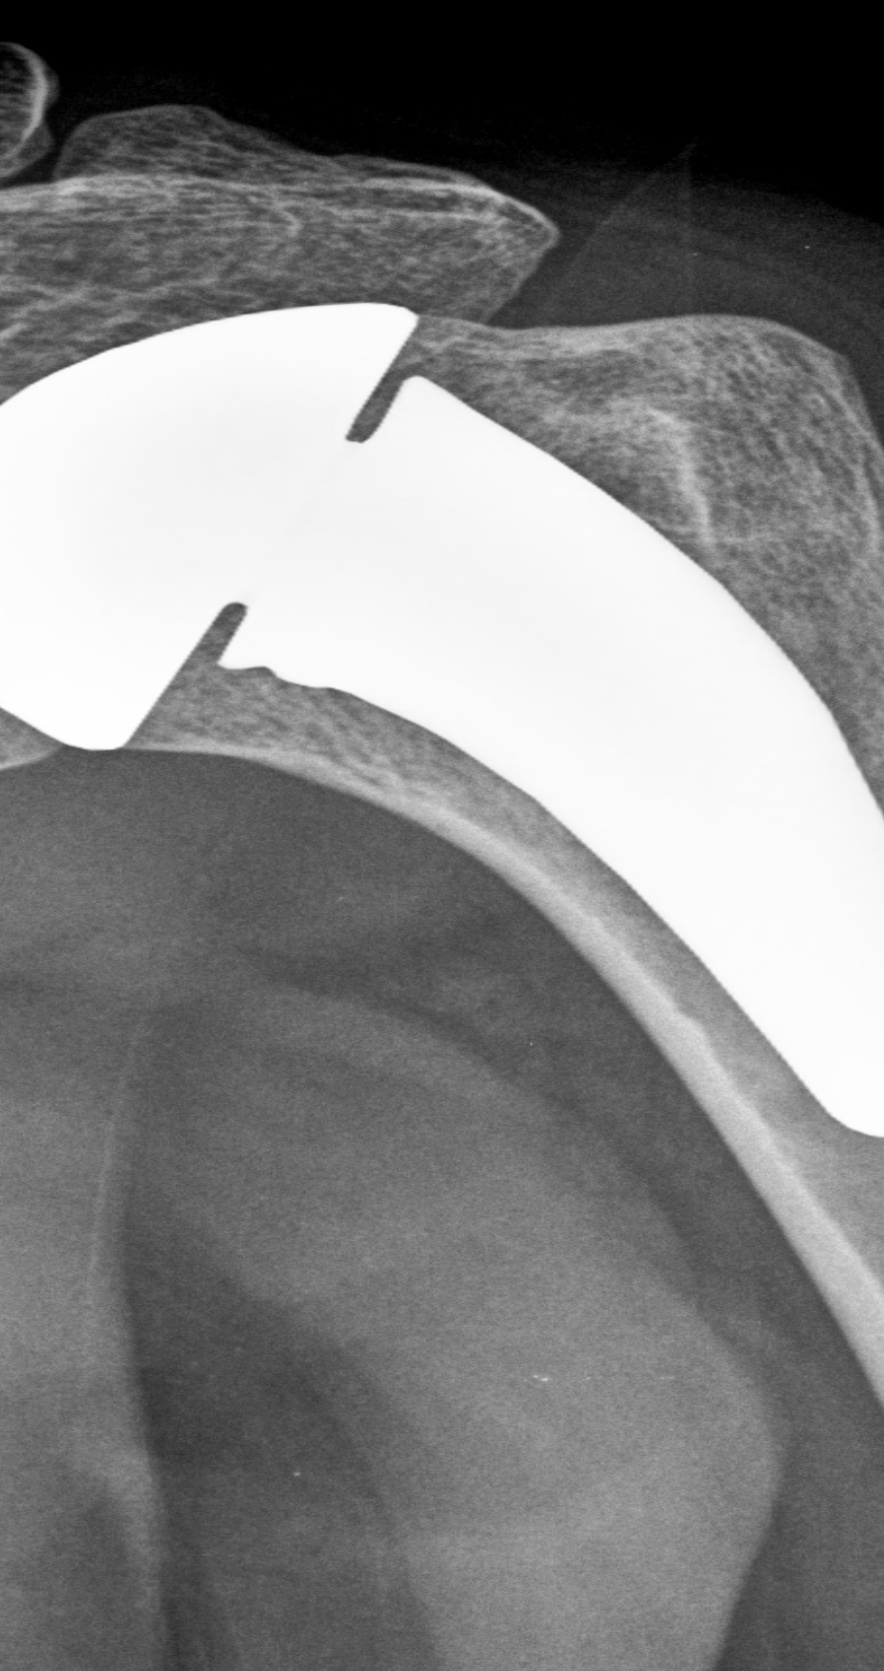Shoulder - AequalisAscendFlex - Tornier: (1, 267, 436, 773)
